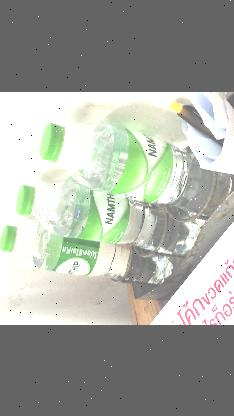Others: (179, 91, 234, 175)
Plastic Bottle: (36, 114, 228, 220), (11, 160, 193, 254), (0, 209, 170, 286)
